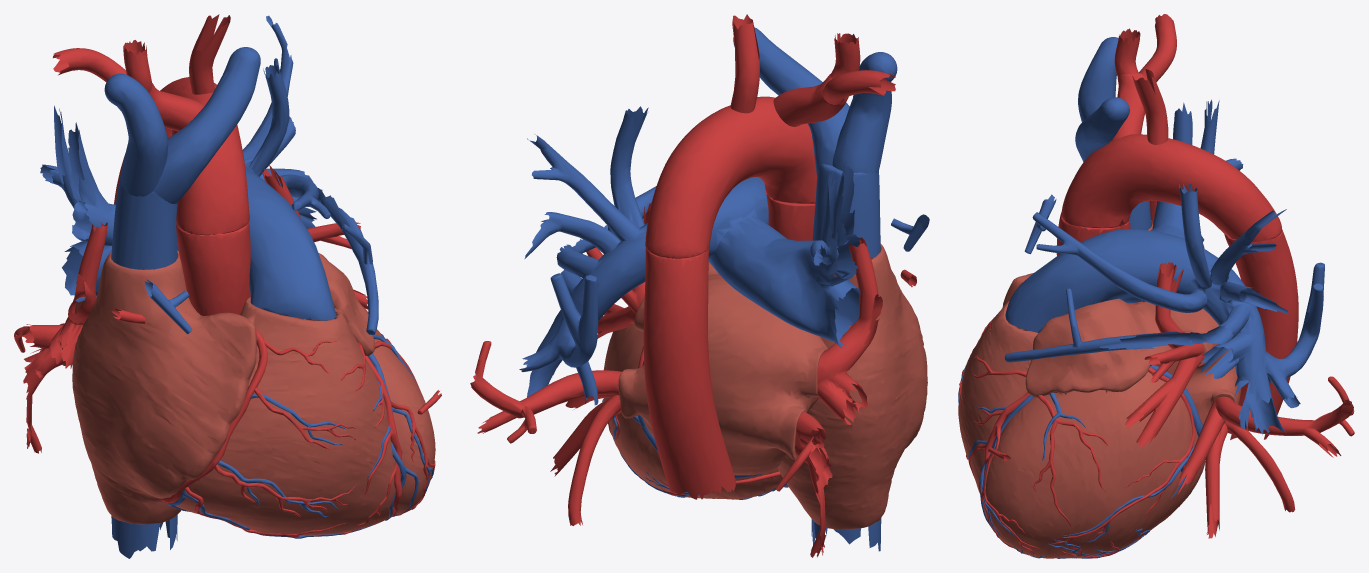
Rendered from heart.mo.glb.
3 renders of one model, left to right at view 1: azimuth 30°, elevation 25°; view 2: azimuth 150°, elevation 25°; view 3: azimuth 270°, elevation 25°, orthographic. The views are drawn at different scales.
Visible parts, largest first — view 1: Heart_wall, Pulmonary_arteries, Venae_cavae, Aorta_and_arch_branches, Pulmonary_veins, Coronary_arteries, Cardiac_veins; view 2: Heart_wall, Aorta_and_arch_branches, Pulmonary_arteries, Pulmonary_veins, Venae_cavae, Cardiac_veins; view 3: Heart_wall, Pulmonary_arteries, Aorta_and_arch_branches, Pulmonary_veins, Venae_cavae, Coronary_arteries, Cardiac_veins.
Boxes of the visible parts, x1,y1,x2,y2 form: Heart_wall: (60, 250, 435, 535); Pulmonary_arteries: (40, 15, 378, 334); Venae_cavae: (104, 47, 260, 558); Aorta_and_arch_branches: (53, 14, 250, 315); Pulmonary_veins: (14, 164, 441, 453); Coronary_arteries: (161, 330, 435, 536); Cardiac_veins: (167, 334, 433, 538); Heart_wall: (603, 244, 927, 529); Aorta_and_arch_branches: (643, 14, 895, 499); Pulmonary_arteries: (519, 106, 929, 405); Pulmonary_veins: (470, 202, 916, 557); Venae_cavae: (733, 27, 897, 551); Cardiac_veins: (602, 360, 788, 499); Heart_wall: (958, 220, 1241, 558); Pulmonary_arteries: (1004, 99, 1324, 434); Aorta_and_arch_branches: (1056, 14, 1298, 439); Pulmonary_veins: (988, 200, 1354, 538); Venae_cavae: (1075, 37, 1151, 229); Coronary_arteries: (958, 317, 1195, 558); Cardiac_veins: (958, 365, 1202, 558).
Size of the model in its own units: 1.29 by 2 by 1.59.
